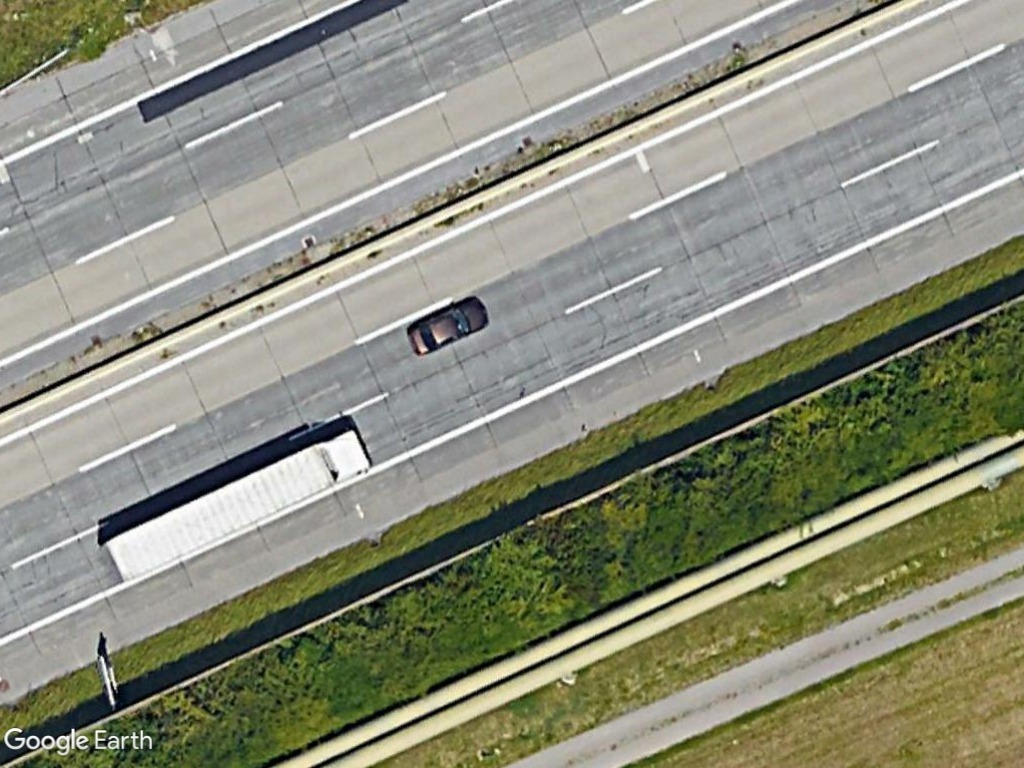car: (403, 290, 493, 360)
longvehicle: (94, 414, 379, 595)
